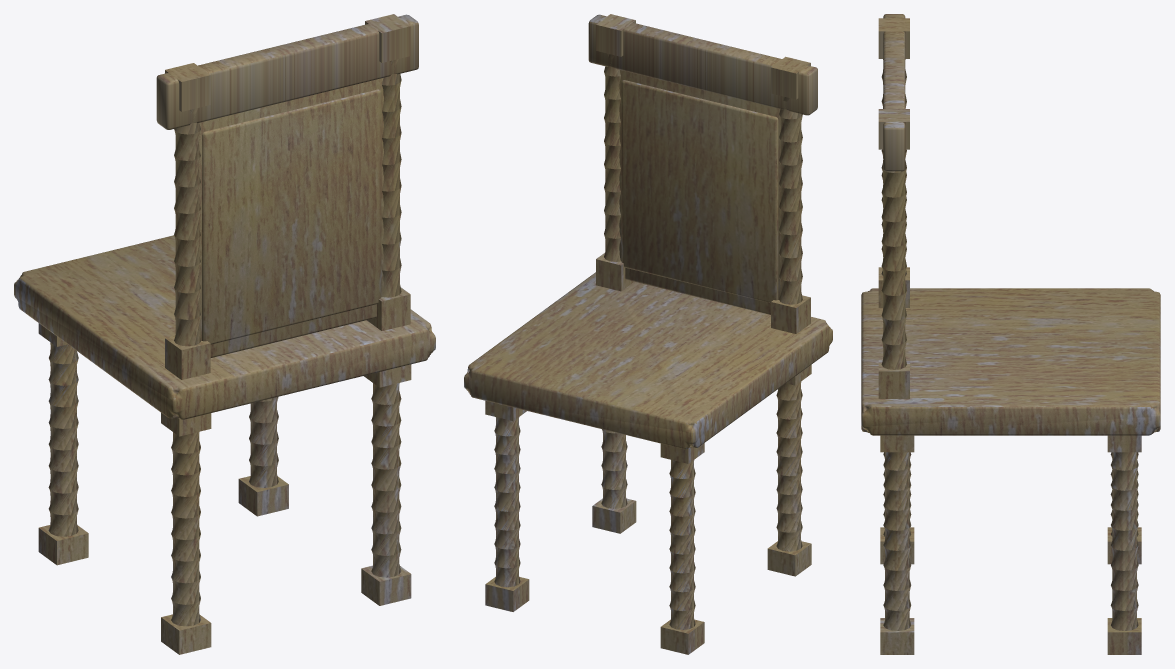
File: Antique_Chair_09.fbx
3 renders of one model, left to right at view 1: azimuth 30°, elevation 25°; view 2: azimuth 150°, elevation 25°; view 3: azimuth 270°, elevation 25°, orthographic. The views are drawn at different scales.
Parts seen in each view (by area): view 1: Antique_Chair; view 2: Antique_Chair; view 3: Antique_Chair.
Part boxes in pixels (<box>): Antique_Chair: <box>14,14,435,654</box>; Antique_Chair: <box>464,14,832,654</box>; Antique_Chair: <box>861,14,1160,654</box>.
Size of the model in its own units: 0.51 by 1.06 by 0.54.
Materials: 1 (1 with a texture image).
